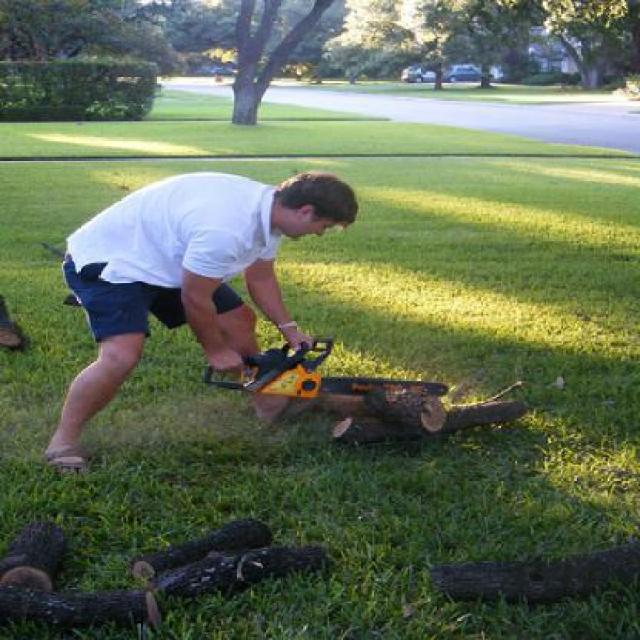Chainsaw: (197, 335, 452, 403)
